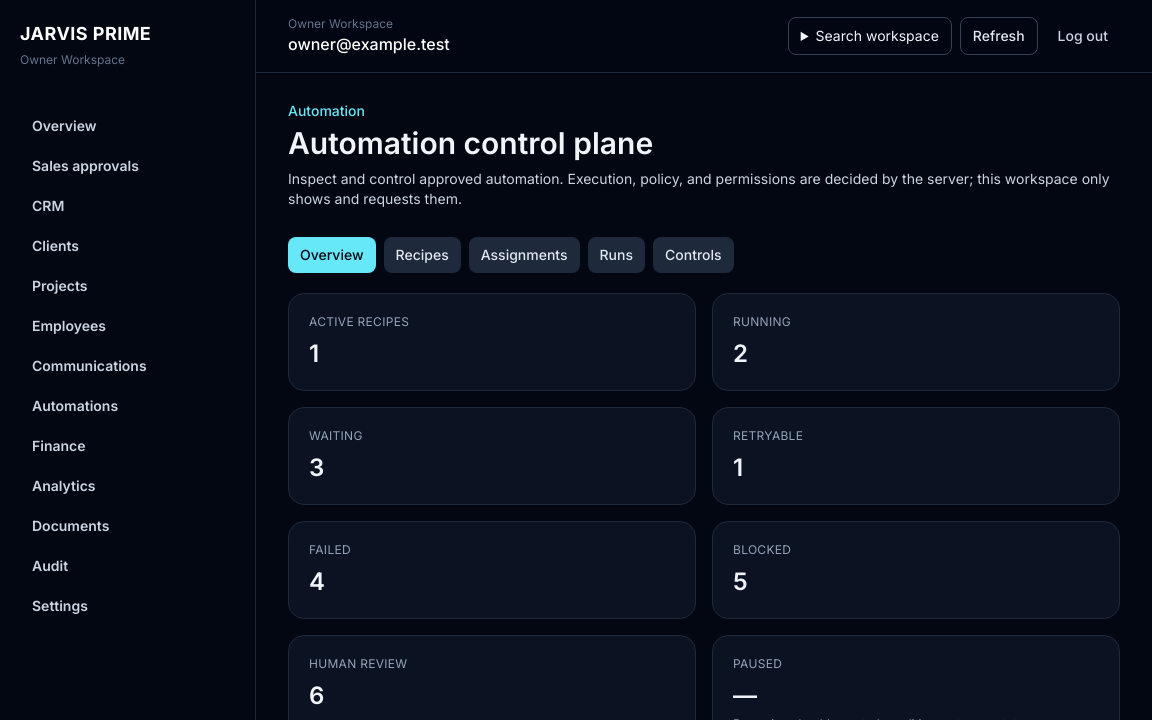
Test case: Owner automation control plane › renders assignment bounds and employee candidates without exposing internal identifiers
The image size is (1152, 720).
Click the tab "Assignments" at [524, 255], box [469,237,580,273]
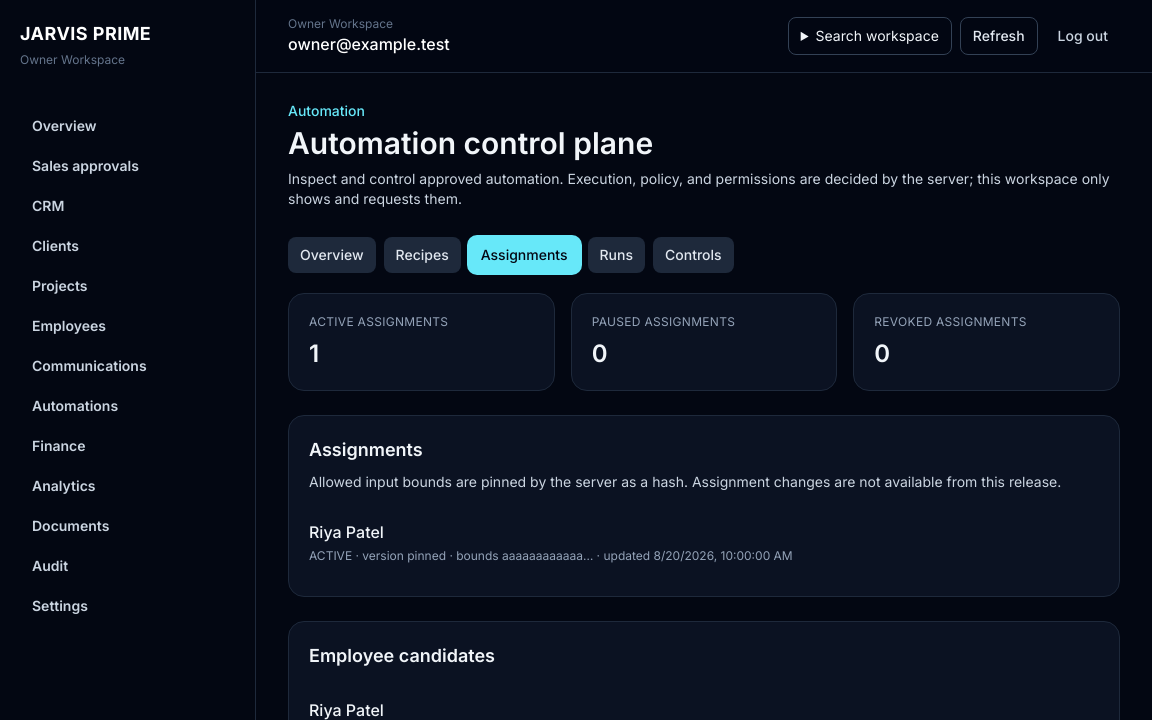
Expected: the 1st text "Riya Patel" is shown, [309,522,384,542]
Expected: the text "Active assignments" is shown, [309,314,448,329]
